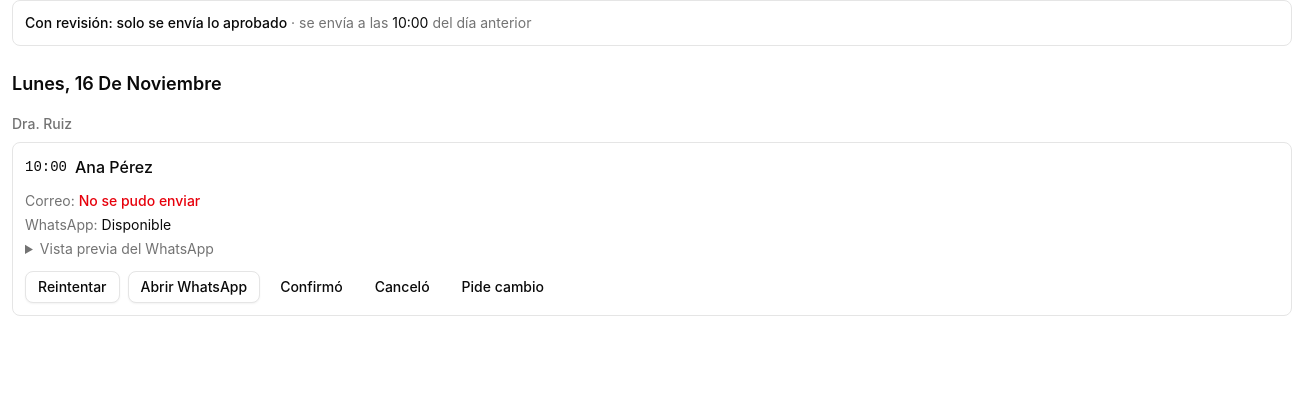
Test: acciones › Reintentar solo con correo fallido; el error del servicio se muestra
Expected: the text "No se pudo enviar" is shown, left=79, top=192, right=200, bottom=209
Click the button "Reintentar".
click(72, 287)  # box left=25, top=271, right=120, bottom=303
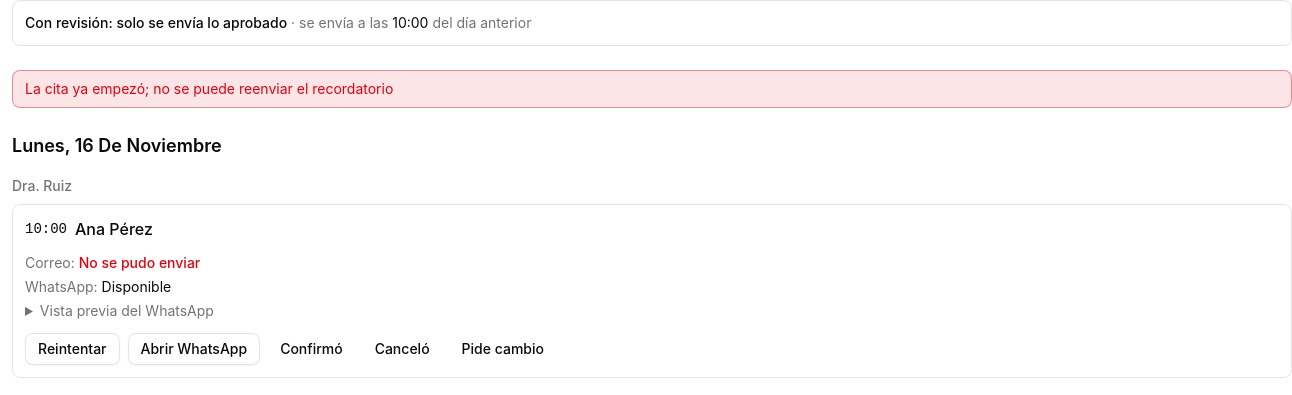
Expected: the message reads "La cita ya empezó; no se puede reenviar el recordatorio", left=25, top=80, right=393, bottom=97
